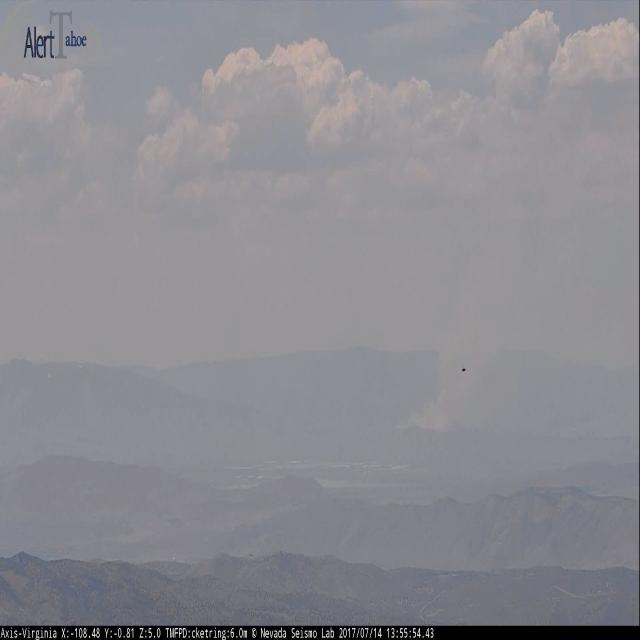smoke: (400, 320, 492, 428)
